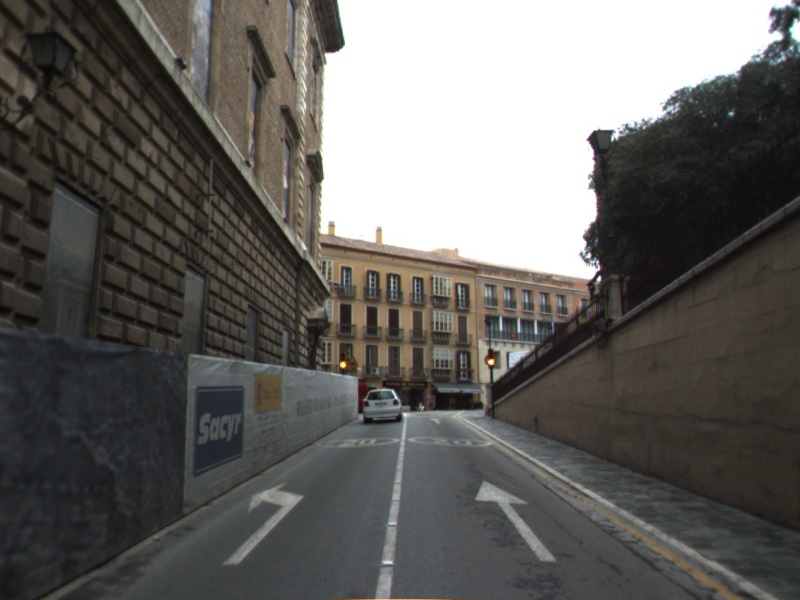LEFT: (220, 481, 306, 567)
STRAIGHT: (473, 478, 558, 563), (427, 417, 444, 425)
